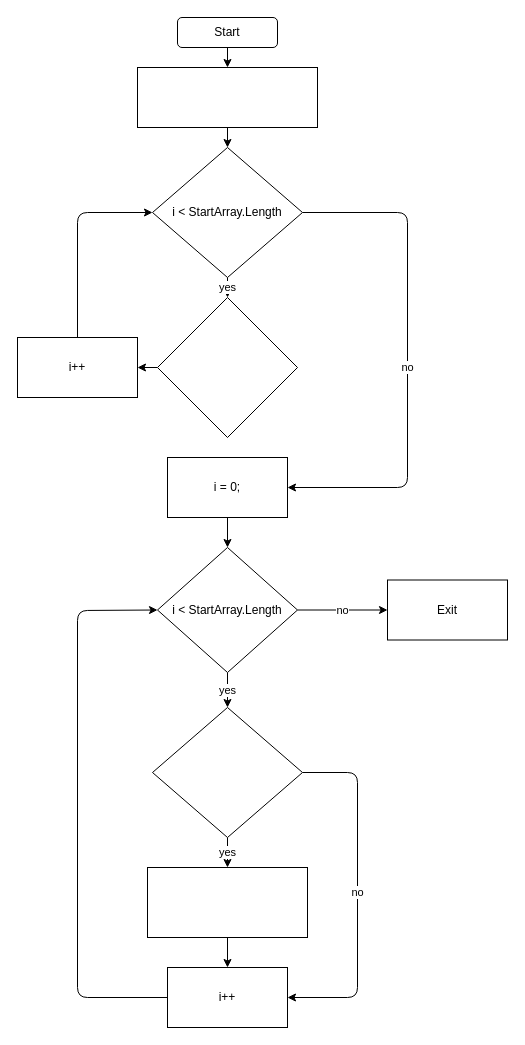
Image size: 525x1045. Some labels were removed from this diagram. Here are the shapes that lost their labels. From the top down, the box of each, then its label:
(136, 66, 318, 128): int [] StartArray = new int[8]; i = 0;
(156, 296, 298, 438): StartArray[i] = new Random().Next(1,10)
(152, 706, 302, 838): StartArray[i] % 2 == 0
(146, 866, 308, 938): Console.Write("StartArray[i]")
